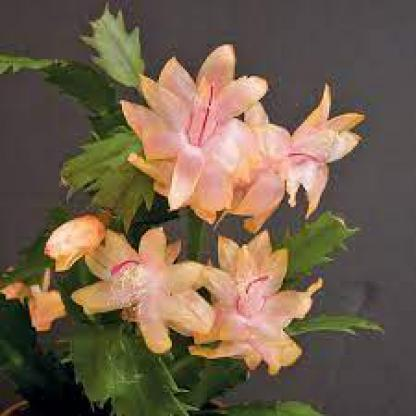Aglonema: (24, 24, 416, 306)
